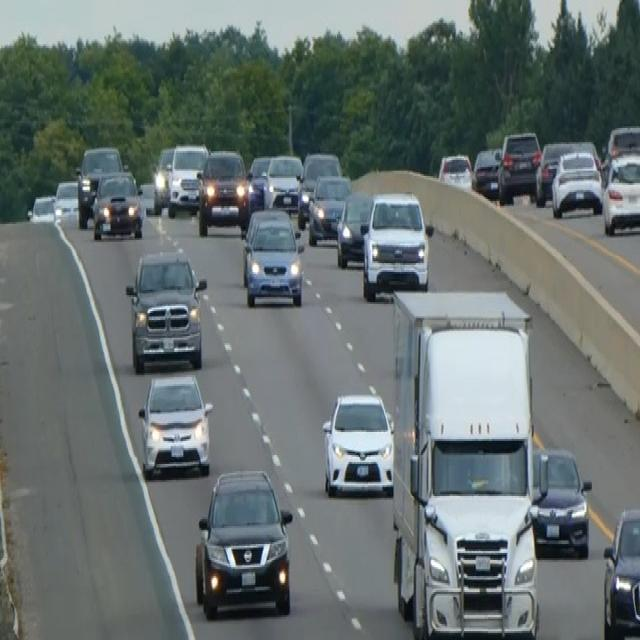car: (194, 466, 293, 618), (124, 246, 207, 372), (137, 370, 213, 478), (321, 389, 394, 498), (361, 188, 430, 300), (530, 444, 592, 558), (241, 206, 304, 308), (601, 505, 639, 638), (197, 146, 249, 234), (75, 144, 124, 228), (91, 167, 144, 240), (550, 148, 603, 218), (297, 149, 341, 226), (497, 128, 541, 203), (602, 148, 639, 235), (307, 172, 351, 245), (167, 140, 208, 217), (335, 188, 372, 268), (535, 138, 574, 202), (263, 151, 303, 213), (471, 144, 501, 197), (245, 153, 271, 210), (152, 144, 175, 208), (437, 151, 472, 190), (605, 123, 639, 160), (53, 178, 79, 224), (26, 192, 56, 224)
lorry: (388, 284, 542, 638)
